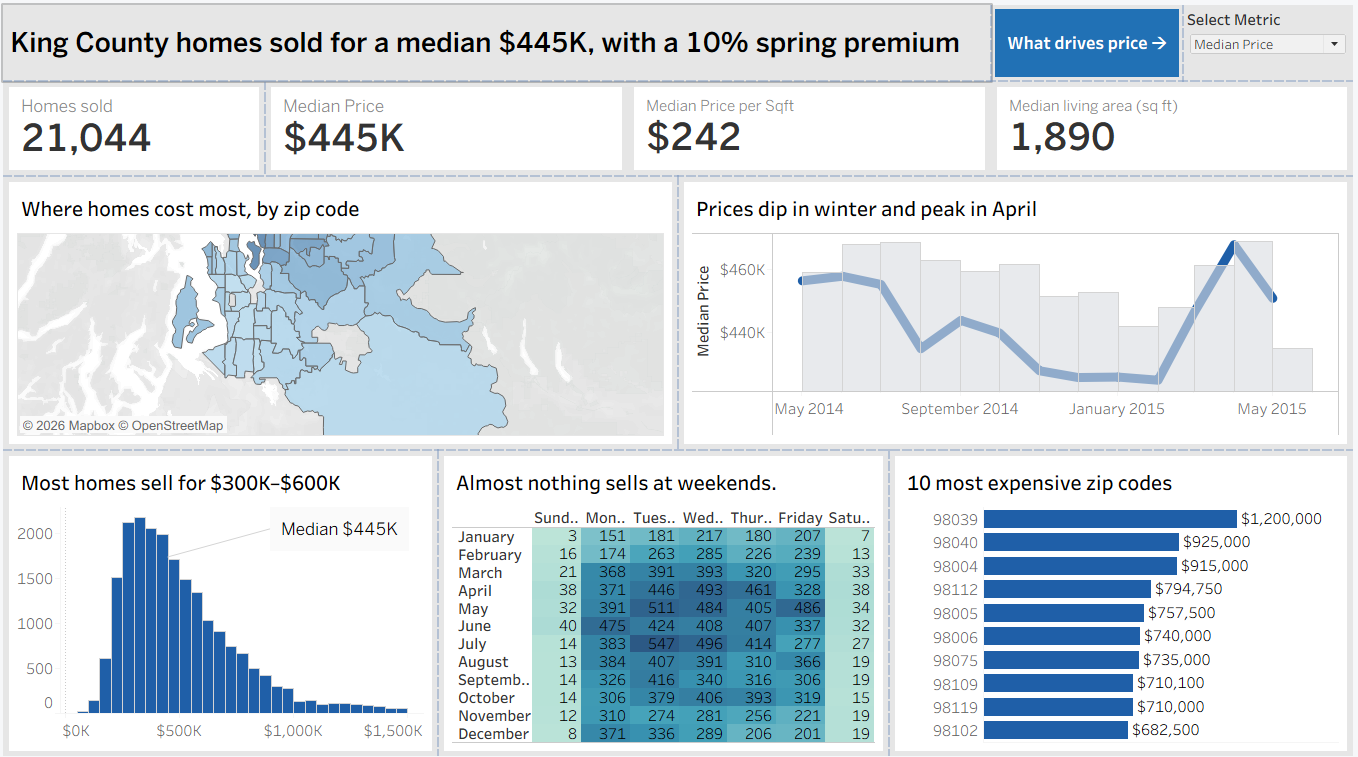

What the dashboard file says about the page in this screenshot:
{"tool":"tableau","page":{"name":"Market Overview","canvas":[1366,768],"ordinal":0},"visuals":[{"type":"text","box":[8,8,988,76]},{"type":"dashboard-object","box":[996,8,192,76]},{"type":"parameter","param":"[Parameters].[Parameter 1118811407376392]","box":[1188,8,170,76]},{"type":"worksheet","title":"KPI Homes","mark":"Automatic","box":[8,84,262,95]},{"type":"worksheet","title":"KPI Price","mark":"Automatic","box":[270,84,363,95]},{"type":"worksheet","title":"KPI PPSF","mark":"Automatic","box":[633,84,363,95]},{"type":"worksheet","title":"KPI Size","mark":"Automatic","box":[996,84,362,95]},{"type":"worksheet","title":"Zip Map","mark":"Multipolygon","box":[8,179,675,274.3]},{"type":"worksheet","title":"Monthly Trend","mark":"Automatic","rows":["Calculation_1118811406868484","Calculation_1118811406594050"],"cols":["Calculation_1118811405967360"],"box":[683,179,675,274.3]},{"type":"worksheet","title":"Price Distribution","mark":"Automatic","rows":["Calculation_1118811406594050"],"cols":["Price (bin)"],"box":[8,453.3,435,306.7]},{"type":"worksheet","title":"When Homes Sell","mark":"Square","rows":["Calculation_1118811405967360"],"cols":["Calculation_1118811405967360"],"box":[443,453.3,451,306.7]},{"type":"worksheet","title":"Top Zips","mark":"Automatic","rows":["zipcode"],"cols":["Calculation_1118811408101385"],"box":[894,453.3,464,306.7]}]}

Visuals, with their boxes in screenshot pixels (x1, y1, x2, y2), scaled from the page's 1366x768 canvas onto the 1358x757 screenshot:
text: <box>8,8,990,83</box>
dashboard-object: <box>990,8,1181,83</box>
parameter: <box>1181,8,1350,83</box>
"KPI Homes" worksheet: <box>8,83,268,176</box>
"KPI Price" worksheet: <box>268,83,629,176</box>
"KPI PPSF" worksheet: <box>629,83,990,176</box>
"KPI Size" worksheet: <box>990,83,1350,176</box>
"Zip Map" worksheet (Multipolygon marks): <box>8,176,679,447</box>
"Monthly Trend" worksheet: <box>679,176,1350,447</box>
"Price Distribution" worksheet: <box>8,447,440,749</box>
"When Homes Sell" worksheet (Square marks): <box>440,447,889,749</box>
"Top Zips" worksheet: <box>889,447,1350,749</box>
